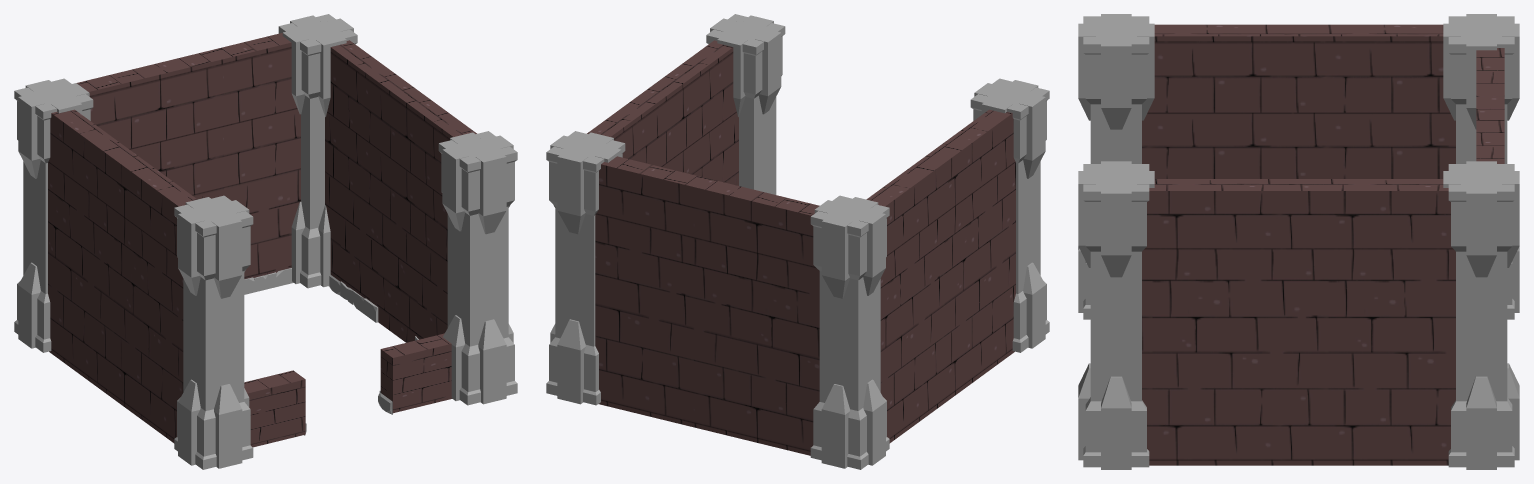
The model's file is Muri_2.0.fbx.
The picture shows the model from 3 angles, left to right: view 1: azimuth 30°, elevation 25°; view 2: azimuth 150°, elevation 25°; view 3: azimuth 270°, elevation 25°; orthographic projection. The views are drawn at different scales.
Visible parts, largest first — view 1: polySurface167; view 2: polySurface167; view 3: polySurface167.
Boxes of the visible parts, x1,y1,x2,y2 form: polySurface167: [14, 14, 517, 469]; polySurface167: [546, 14, 1049, 469]; polySurface167: [1078, 14, 1519, 469].
Size of the model in its own units: 1515 by 1100 by 1574.
Materials: 2 (1 with a texture image).
